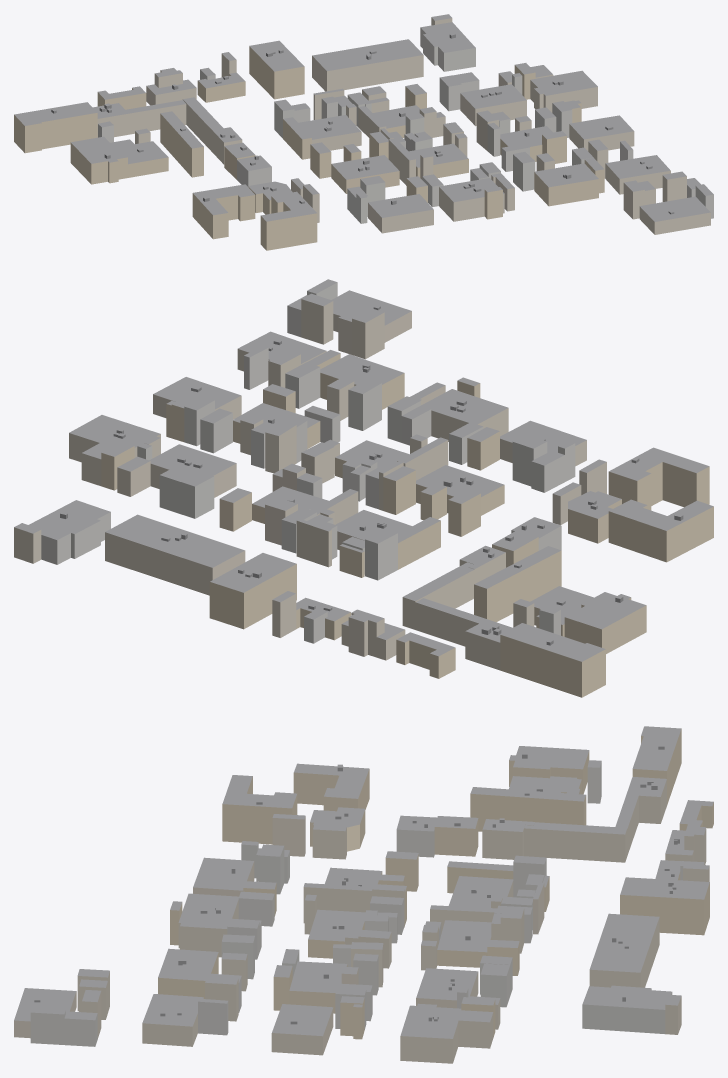
Rendered from building_3_-2.glb.
3 renders of one model, top to bottom at view 1: azimuth 30°, elevation 25°; view 2: azimuth 150°, elevation 25°; view 3: azimuth 270°, elevation 25°, orthographic. The views are drawn at different scales.
Parts seen in each view (by area): view 1: roof, sandstone, concrete_warm, concrete_light; view 2: roof, sandstone, concrete_warm, concrete_light; view 3: roof, concrete_warm, sandstone, concrete_light.
Boxes of the visible parts, x1,y1,x2,y2 form: roof: (14, 14, 713, 221); sandstone: (14, 46, 604, 250); concrete_warm: (97, 17, 710, 234); concrete_light: (98, 27, 713, 223); roof: (14, 279, 713, 661); sandstone: (101, 353, 713, 697); concrete_warm: (14, 299, 606, 670); concrete_light: (41, 282, 575, 643); roof: (14, 726, 713, 1038); concrete_warm: (14, 779, 709, 1063); sandstone: (158, 729, 713, 1039); concrete_light: (30, 761, 704, 1046).
Bounding box in the file's own units: 267 × 16.37 × 261.
